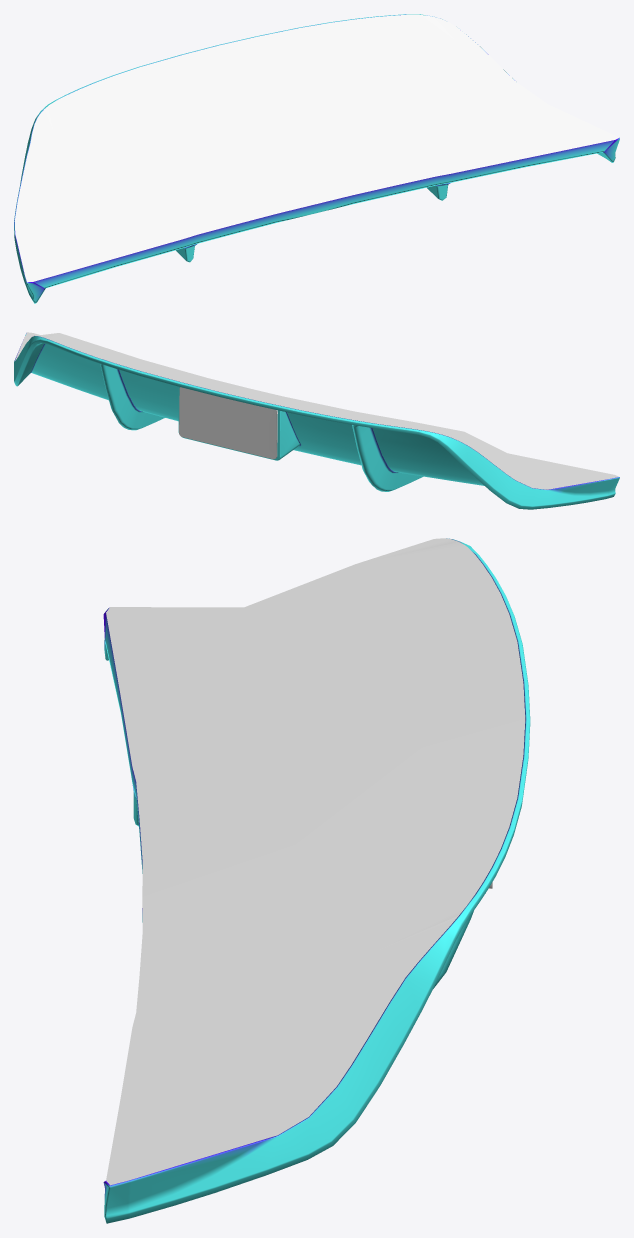
Rendered from Car_Ford_GT_2017_Diffuser_SetE_AltA.fbx.
The picture shows the model from 3 angles, top to bottom: view 1: azimuth 30°, elevation 25°; view 2: azimuth 150°, elevation 25°; view 3: azimuth 270°, elevation 25°; orthographic projection. The views are drawn at different scales.
Visible parts, largest first — view 1: Diffuser 6; view 2: Diffuser 6; view 3: Diffuser 6.
Part boxes in pixels (x1,y1,x2,y2): Diffuser 6: (14, 14, 619, 303); Diffuser 6: (14, 332, 619, 509); Diffuser 6: (103, 538, 530, 1223).
Bounding box in the file's own units: 1.86 × 0.3467 × 0.5794.
